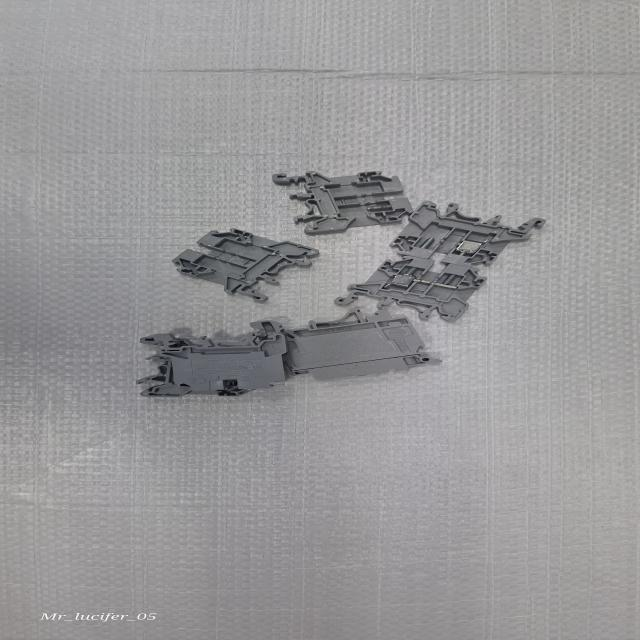Reject: (165, 226, 321, 302), (391, 196, 552, 266), (331, 254, 494, 323), (270, 171, 417, 236)
